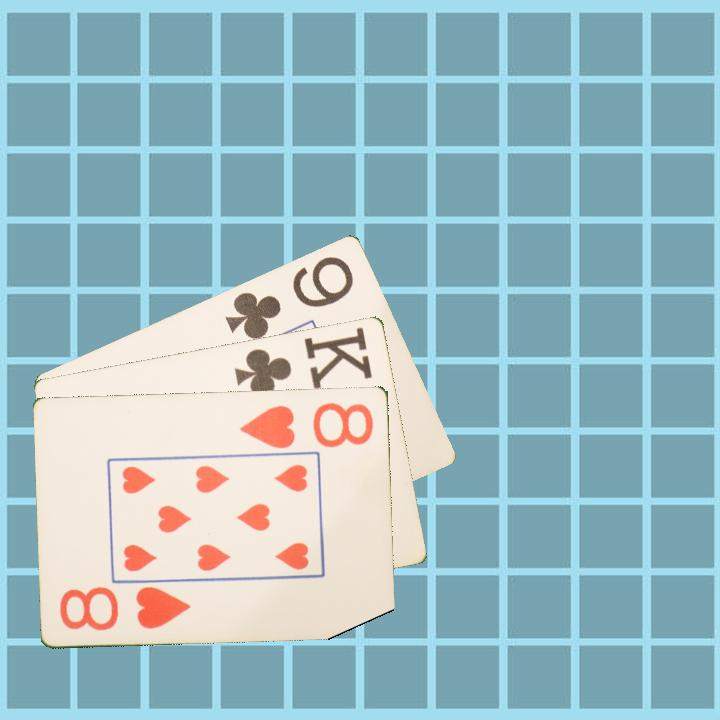8h: (236, 398, 377, 451), (56, 582, 194, 633)
9c: (222, 252, 357, 342)
Kc: (231, 323, 376, 400)
